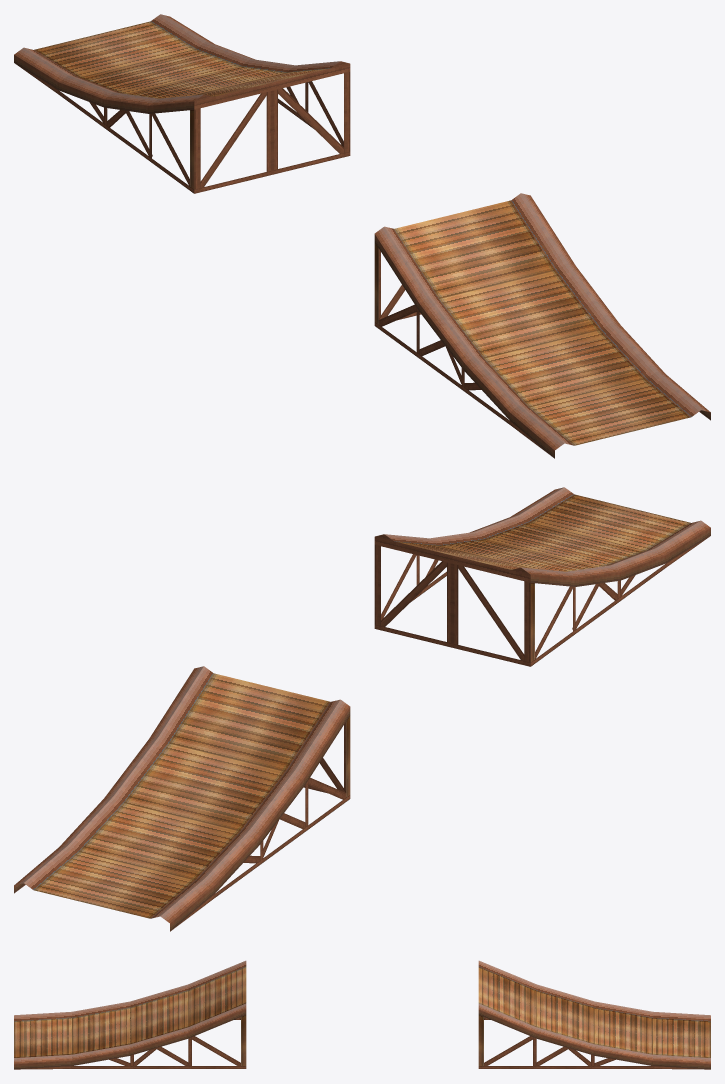
File: Ramp.glb
The picture shows the model from 3 angles, top to bottom: view 1: azimuth 30°, elevation 25°; view 2: azimuth 150°, elevation 25°; view 3: azimuth 270°, elevation 25°; orthographic projection. The views are drawn at different scales.
Parts seen in each view (by area): view 1: Ramp; view 2: Ramp; view 3: Ramp.
Part boxes in pixels (box(x1,y1,x2,y2)): Ramp: box(14, 14, 710, 458); Ramp: box(14, 487, 710, 931); Ramp: box(14, 960, 710, 1069).
Bounding box in the file's own units: 0.5 × 0.2997 × 3.
1 material, 1 textured.
